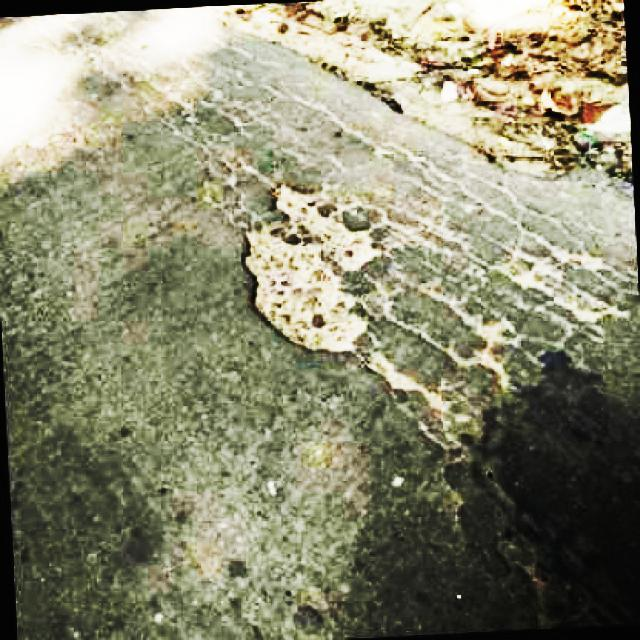pothole: (240, 180, 375, 354)
